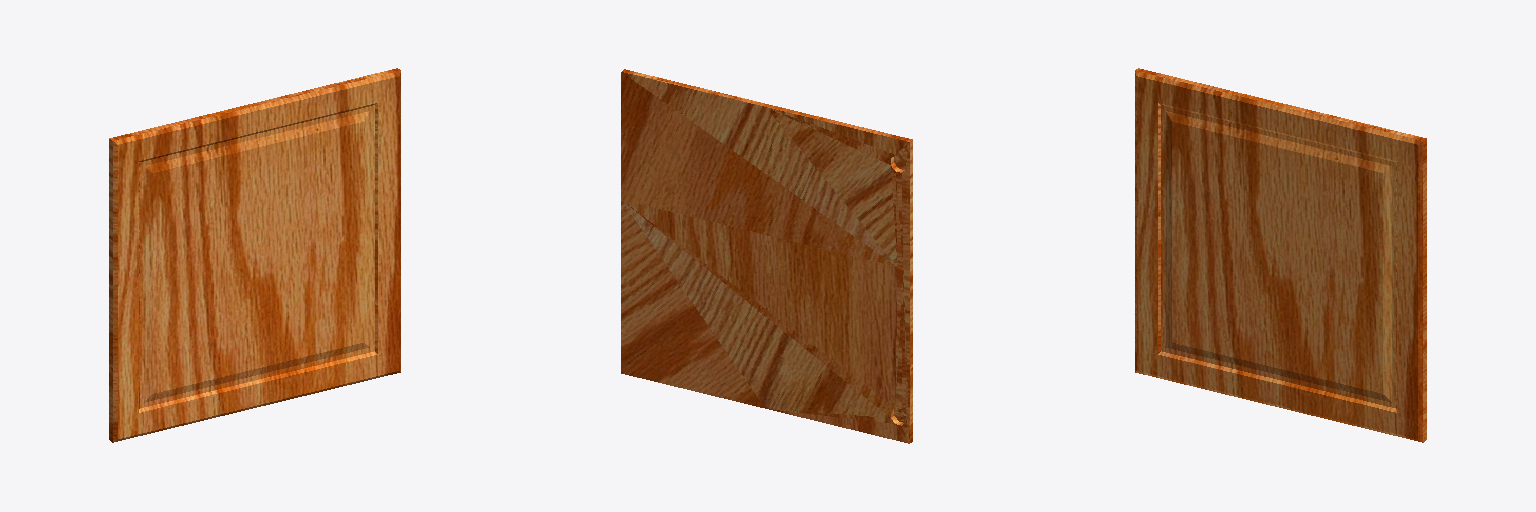
The picture shows the model from 3 angles: view 1: azimuth 30°, elevation 25°; view 2: azimuth 150°, elevation 25°; view 3: azimuth 330°, elevation 25°; orthographic projection.
Visible parts, largest first — view 1: model_model.002; view 2: model_model.002; view 3: model_model.002.
Part boxes in pixels (x1,y1,x2,y2): model_model.002: (109,68,400,442); model_model.002: (621,69,912,443); model_model.002: (1135,68,1426,442).
Size of the model in its own units: 0.597 by 0.597 by 0.018.
Materials: 1 (1 with a texture image).